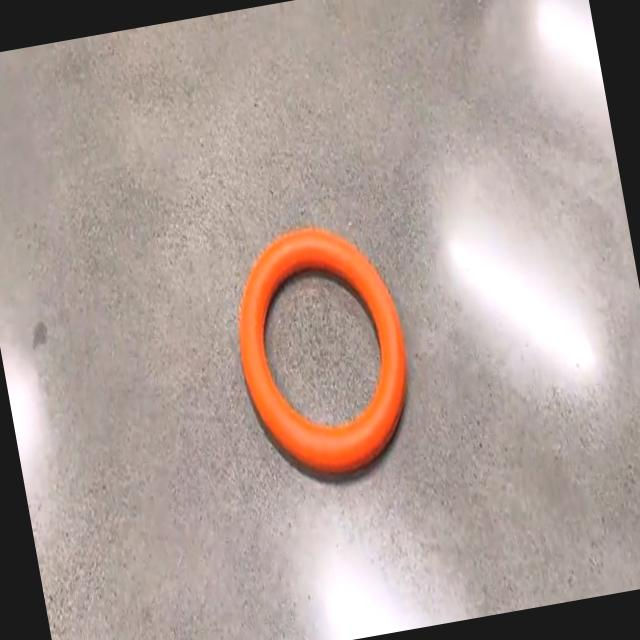note: (239, 230, 405, 474)
